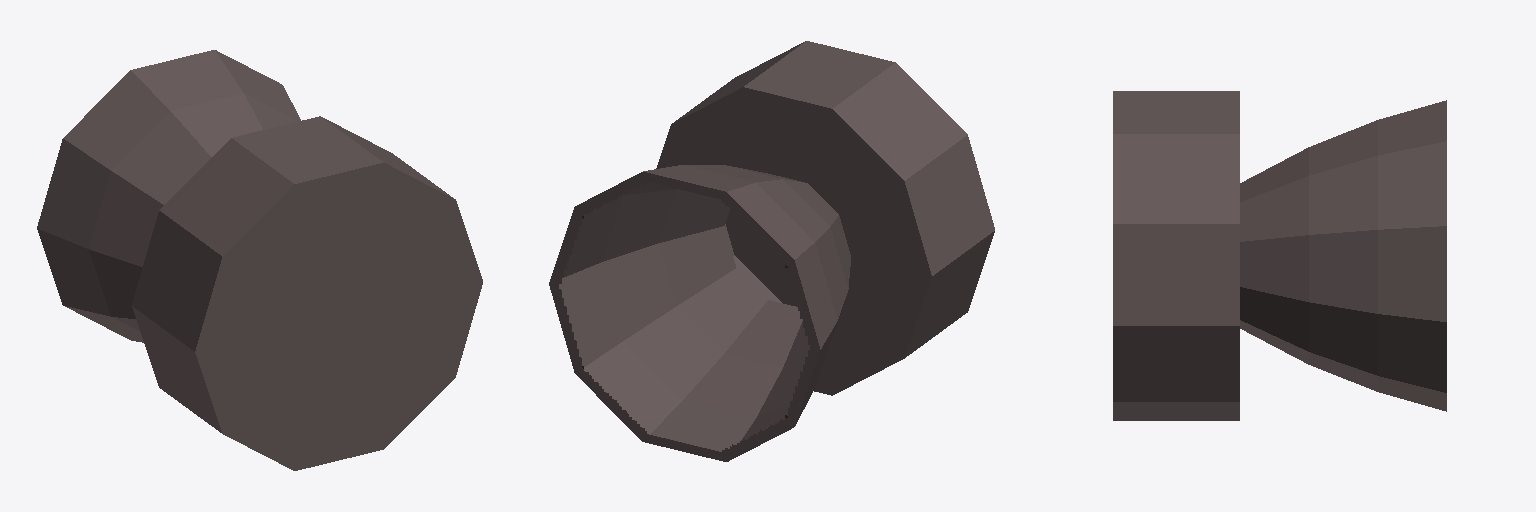
3 renders of one model, left to right at view 1: azimuth 30°, elevation 25°; view 2: azimuth 150°, elevation 25°; view 3: azimuth 270°, elevation 25°, orthographic.
Visible parts, largest first — view 1: Thruster_Cylinder; view 2: Thruster_Cylinder; view 3: Thruster_Cylinder.
Boxes of the visible parts, x1,y1,x2,y2 form: Thruster_Cylinder: [37, 50, 482, 470]; Thruster_Cylinder: [549, 41, 994, 461]; Thruster_Cylinder: [1113, 91, 1446, 420].
Bounding box in the file's own units: 1 × 0.9511 × 1.
Materials: 1 (1 with a texture image).